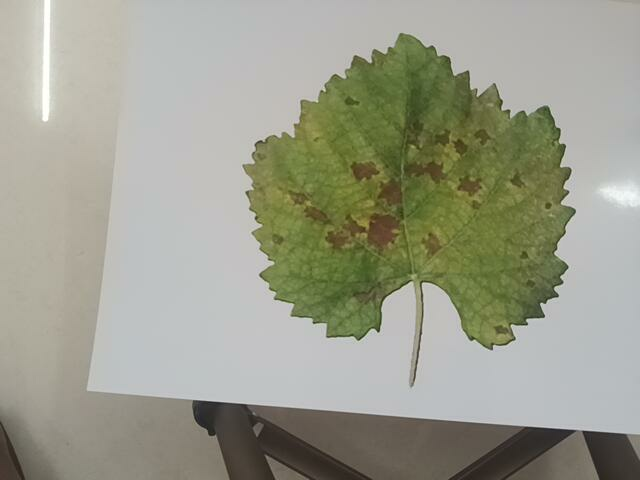Grape_Leaf_Vine_Disease: (224, 22, 603, 392)
